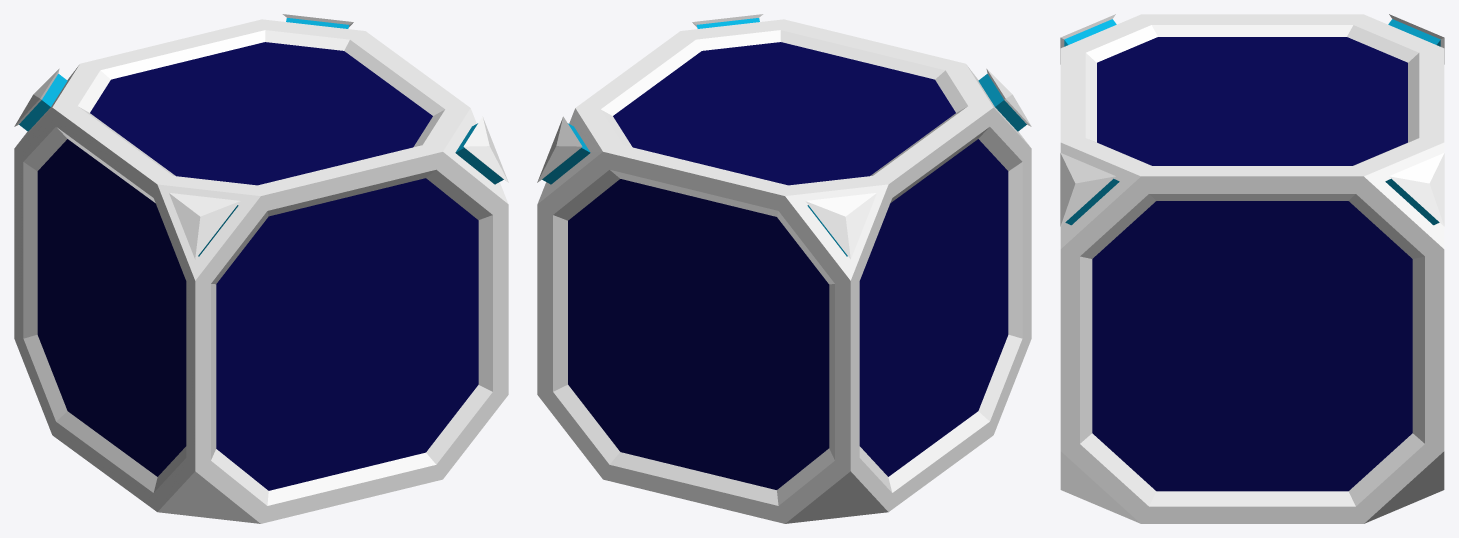
Rendered from SurfaceNode.fbx.
3 renders of one model, left to right at view 1: azimuth 30°, elevation 25°; view 2: azimuth 150°, elevation 25°; view 3: azimuth 270°, elevation 25°, orthographic. The views are drawn at different scales.
Parts seen in each view (by area): view 1: Cube; view 2: Cube; view 3: Cube.
Boxes of the visible parts, left/top/right/bottom form: Cube: left=14, top=14, right=508, bottom=523; Cube: left=537, top=14, right=1031, bottom=523; Cube: left=1060, top=14, right=1444, bottom=523.
Bounding box in the file's own units: 200 × 200 × 200.
